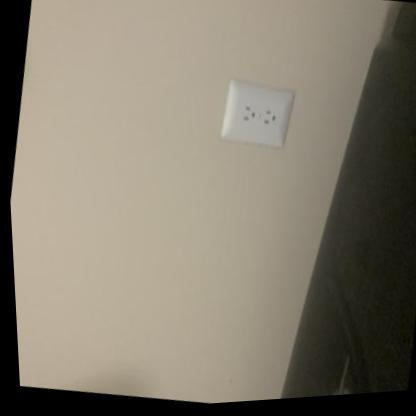OUTLET: (215, 77, 297, 151)
